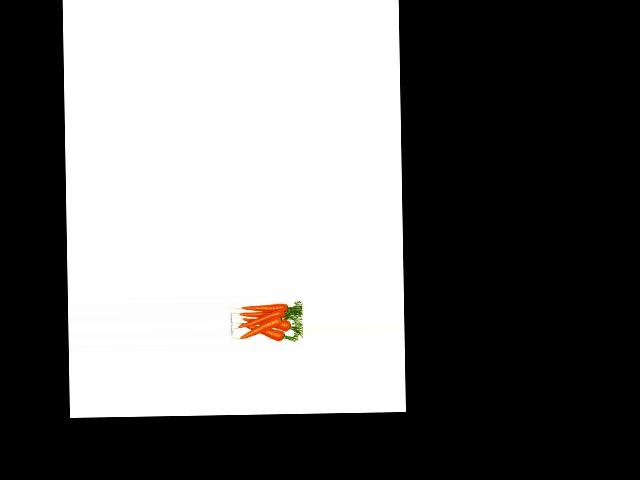carrot: (232, 309, 285, 323)
